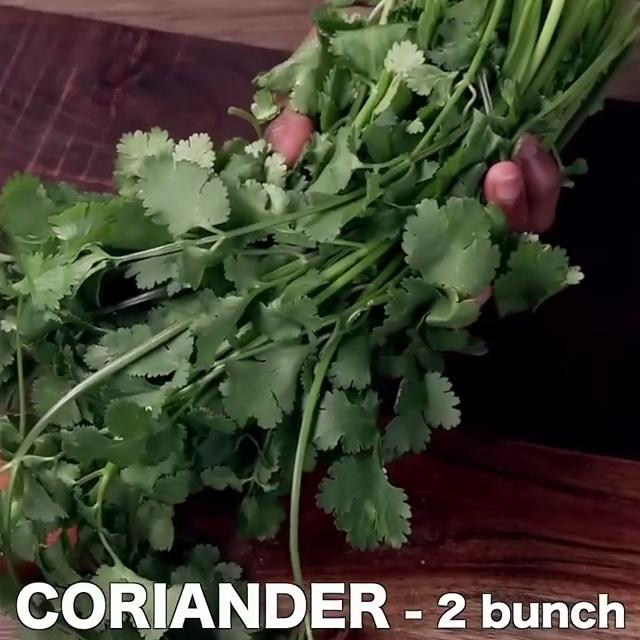cilantro: (0, 181, 442, 572)
